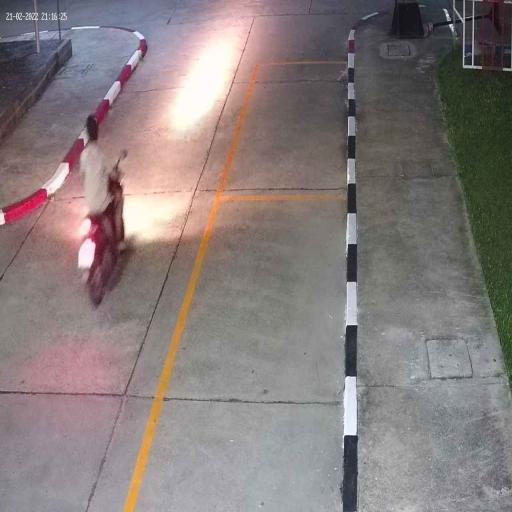motorcycle: (77, 166, 126, 308)
